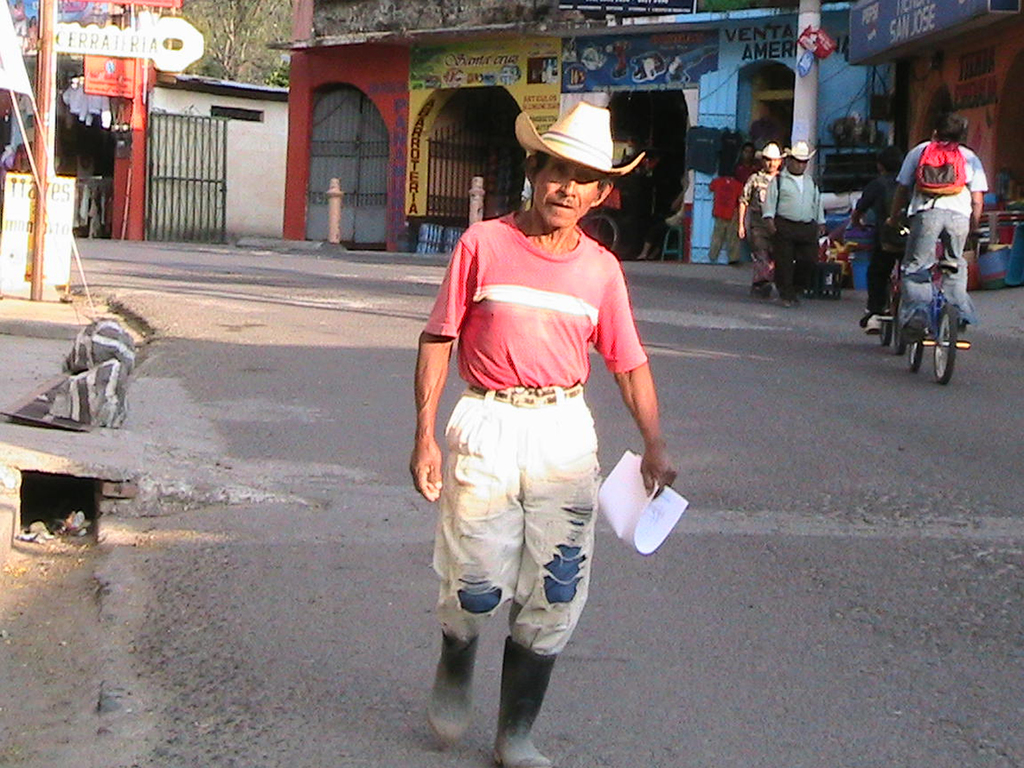Bike: (879, 214, 972, 399)
